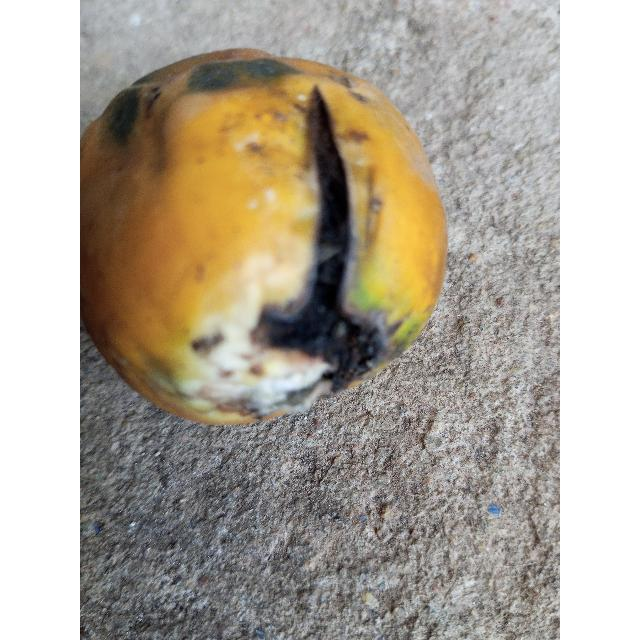damaged: (80, 50, 447, 425)
